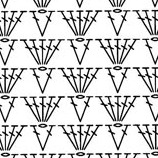enseble_chain: (34, 91, 71, 128), (110, 90, 146, 127), (110, 34, 146, 70), (36, 34, 71, 71), (0, 121, 34, 158), (135, 16, 158, 68), (74, 7, 107, 43), (0, 7, 33, 43), (75, 121, 108, 156), (53, 63, 84, 99), (19, 32, 47, 70), (93, 33, 121, 69), (70, 94, 100, 127), (131, 6, 158, 40), (35, 123, 63, 155), (132, 120, 158, 154), (72, 37, 99, 69), (110, 9, 137, 40), (59, 121, 84, 154), (35, 67, 62, 97), (133, 64, 158, 96), (111, 123, 137, 153), (0, 95, 25, 126), (110, 67, 136, 96), (36, 10, 61, 40), (0, 38, 24, 69), (0, 67, 18, 94), (76, 67, 92, 94)
fan: (57, 7, 83, 40), (22, 35, 46, 68), (136, 121, 158, 153), (137, 7, 158, 38), (68, 123, 86, 151)
